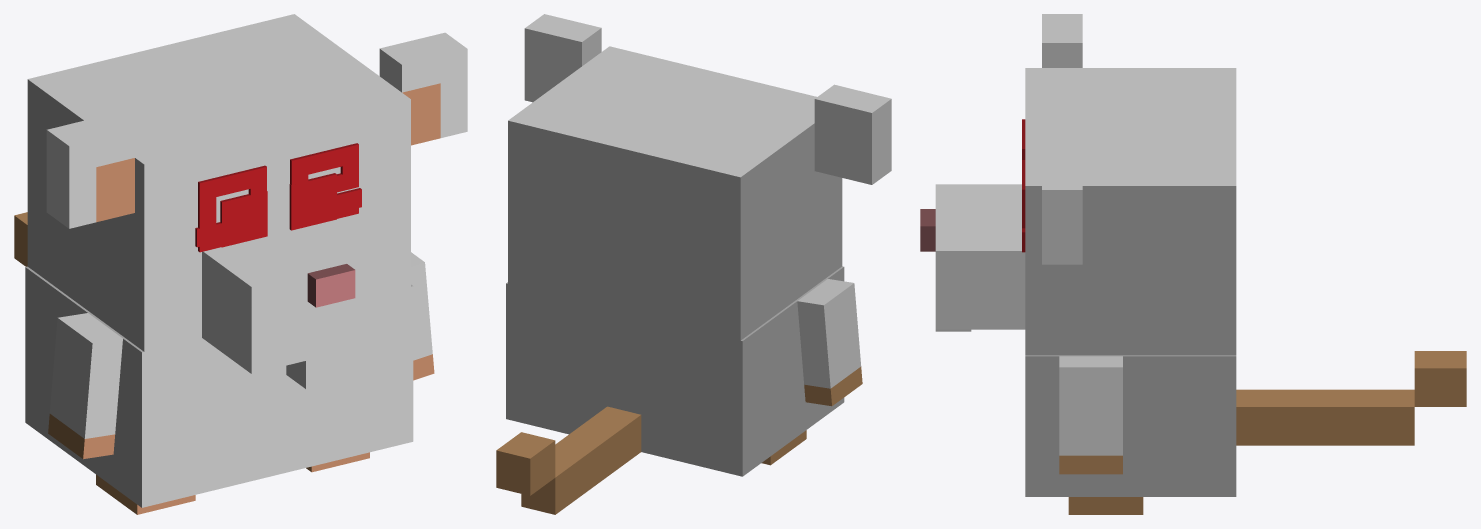
The picture shows the model from 3 angles, left to right: view 1: azimuth 30°, elevation 25°; view 2: azimuth 150°, elevation 25°; view 3: azimuth 270°, elevation 25°; orthographic projection. The views are drawn at different scales.
Parts seen in each view (by area): view 1: Ch_183_Head, Ch_183, Ch_183_Arm_L, Ch_183_Eye_01, Ch_183_Eye_03_L, Ch_183_Eye_03_R, Ch_183_Arm_R, Ch_183_Eye_02, Ch_183_Leg_L, Ch_183_Tail; view 2: Ch_183_Head, Ch_183, Ch_183_Tail, Ch_183_Arm_L; view 3: Ch_183_Head, Ch_183, Ch_183_Tail, Ch_183_Arm_R, Ch_183_Leg_R.
Part boxes in pixels (x1,y1,x2,y2): Ch_183_Head: (27,14,467,388); Ch_183: (25,266,413,507); Ch_183_Arm_L: (48,313,122,459); Ch_183_Eye_01: (220,173,336,247); Ch_183_Eye_03_L: (198,165,266,252); Ch_183_Eye_03_R: (290,143,358,218); Ch_183_Arm_R: (411,252,434,380); Ch_183_Eye_02: (195,188,361,247); Ch_183_Leg_L: (96,474,195,514); Ch_183_Tail: (14,212,27,266); Ch_183_Head: (508,14,891,340); Ch_183: (506,266,844,476); Ch_183_Tail: (496,406,641,514); Ch_183_Arm_L: (797,279,862,406); Ch_183_Head: (920,14,1236,355); Ch_183: (1025,355,1236,496); Ch_183_Tail: (1236,351,1466,445); Ch_183_Arm_R: (1059,356,1122,474); Ch_183_Leg_R: (1068,497,1143,514).
Bounding box in the file's own units: 9.89 × 9.49 × 12.99.
